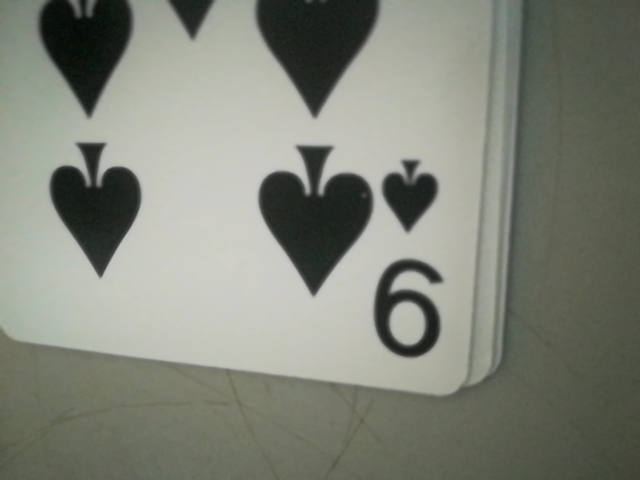ht 9: (372, 143, 448, 379)
